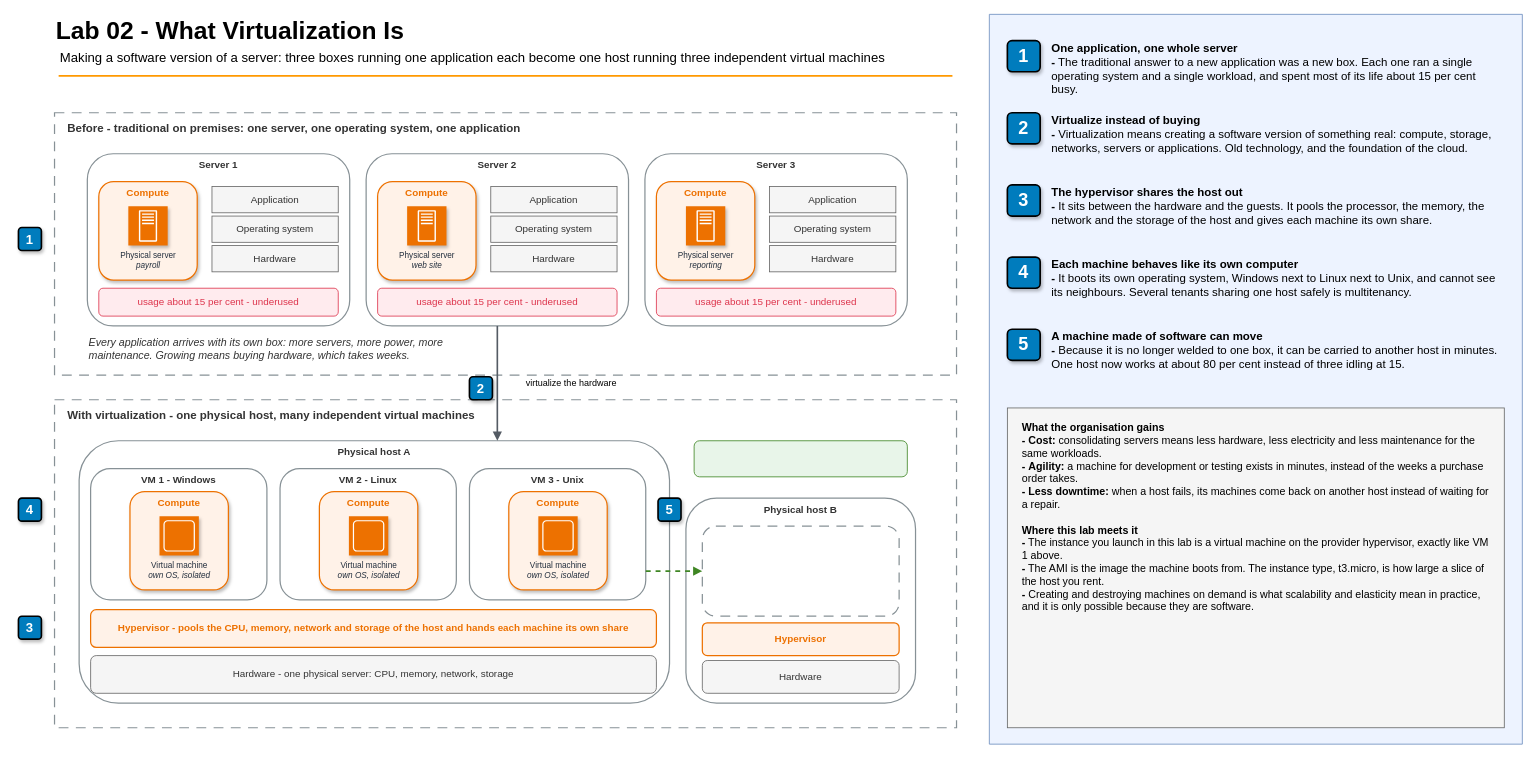
This 1537x759 diagram has some shape labels left out. Here are the shapes that lost their labels. From the top down, the centre of each, then its label:
At (800,458): "usage about 80 per cent".
At (800,570): "a machine that arrives runs here instead".
